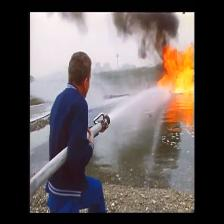fire: (161, 47, 192, 90), (143, 10, 178, 38)
